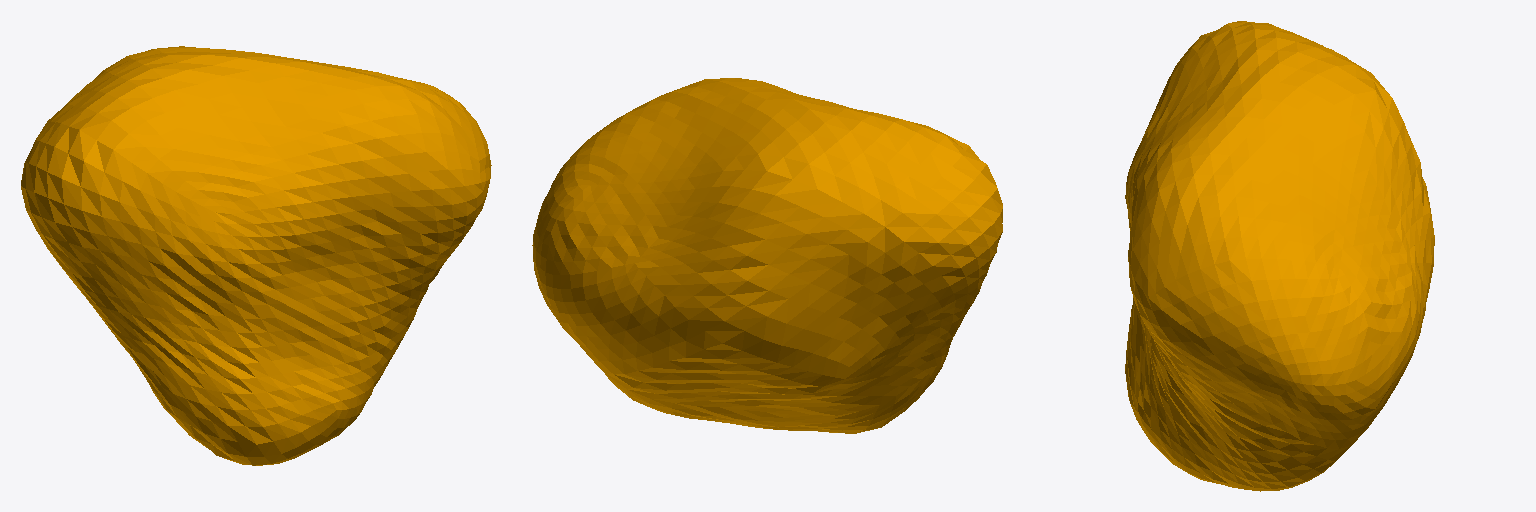
URDF robot description (potato):
<robot name="potato">
  <link name="body">
    <visual>
      <geometry>
        <mesh filename="potato.obj" scale="0.07 0.07 0.07"/>
      </geometry>
    </visual>
    <collision>
      <geometry>
        <box size="0.02 0.02 0.02"/>
      </geometry>
    </collision>
    <inertial>
      <mass value="0.1"/>
      <inertia ixx="0.001" iyy="0.001" izz="0.001" ixy="0" ixz="0" iyz="0"/>
    </inertial>
  </link>
</robot>

--- Render facts (derived) ---
The picture shows the robot from 3 angles, left to right: view 1: azimuth 30°, elevation 25°; view 2: azimuth 150°, elevation 25°; view 3: azimuth 270°, elevation 25°; orthographic projection.
Robot: potato — 1 links, 0 joints (none); root link body; default pose: every joint at zero.
Visible links, largest first — view 1: body; view 2: body; view 3: body.
Boxes of the visible links, <box> form: body: <box>21,46,491,465</box>; body: <box>532,78,1002,433</box>; body: <box>1125,21,1434,491</box>.
Size in the robot's own frame: 0.101 by 0.0593 by 0.0793 metres.
1 mesh visuals loaded from 1 distinct referenced files (1 OBJ).